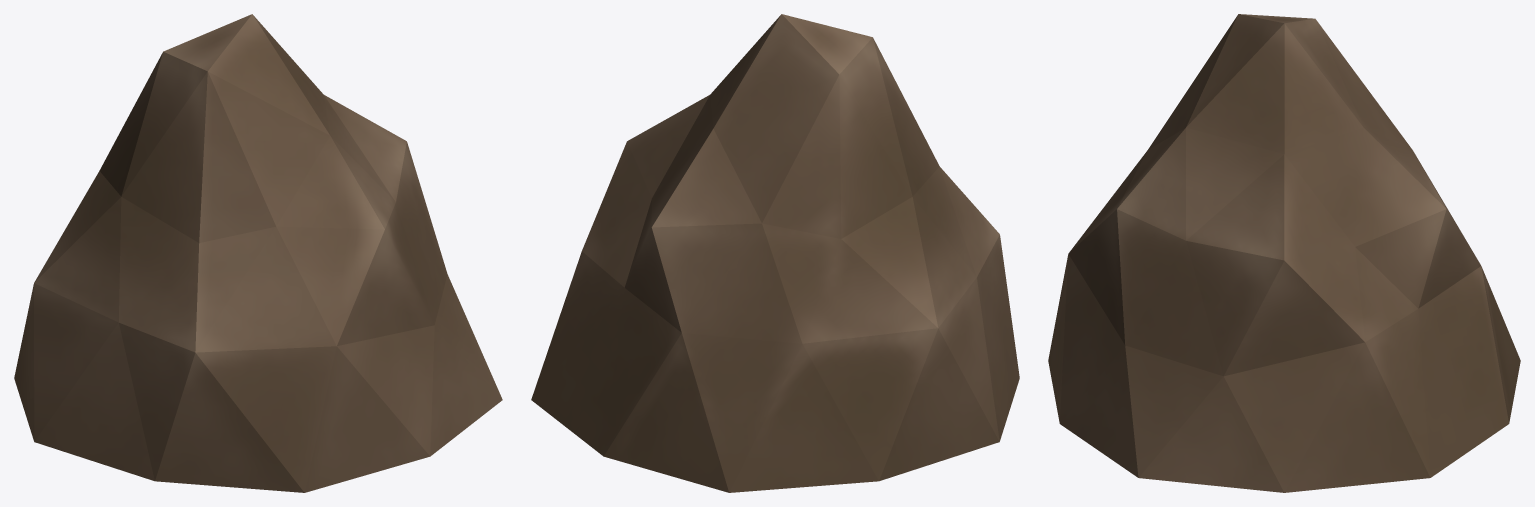
File: animal_pr_rock01_01.fbx
3 views of the same model, side by side, from view 1: azimuth 30°, elevation 25°; view 2: azimuth 150°, elevation 25°; view 3: azimuth 270°, elevation 25° (orthographic).
Parts seen in each view (by area): view 1: animal_pr_rock01_mesh; view 2: animal_pr_rock01_mesh; view 3: animal_pr_rock01_mesh.
Part boxes in pixels (box(x1,y1,x2,y2)): animal_pr_rock01_mesh: box(14, 14, 502, 492); animal_pr_rock01_mesh: box(531, 14, 1019, 492); animal_pr_rock01_mesh: box(1048, 14, 1520, 492).
Bounding box in the file's own units: 27.46 × 23.12 × 26.77.
